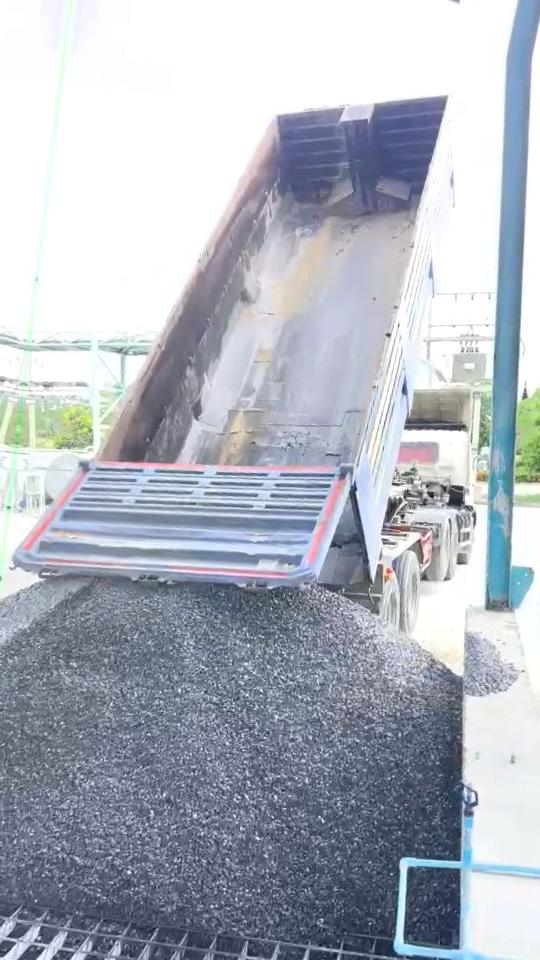gravel: (0, 581, 461, 941), (0, 578, 84, 649), (464, 634, 519, 696), (409, 874, 458, 941)
